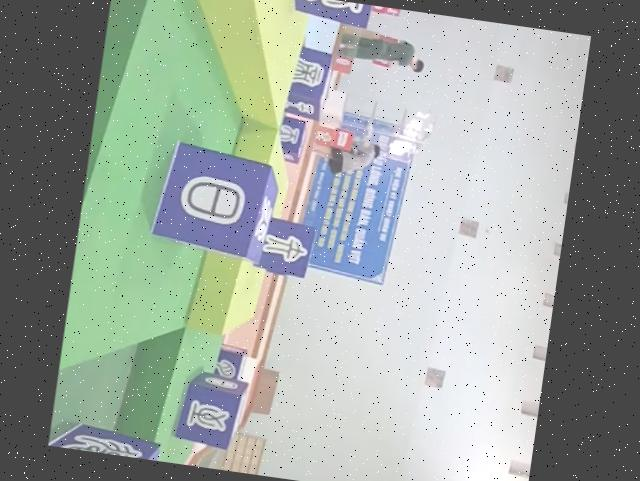R2 Fake Blue: (148, 138, 284, 267), (172, 369, 250, 452), (48, 417, 160, 461), (252, 216, 318, 282), (283, 45, 335, 122), (280, 0, 380, 30), (276, 115, 309, 165), (213, 342, 248, 381)
